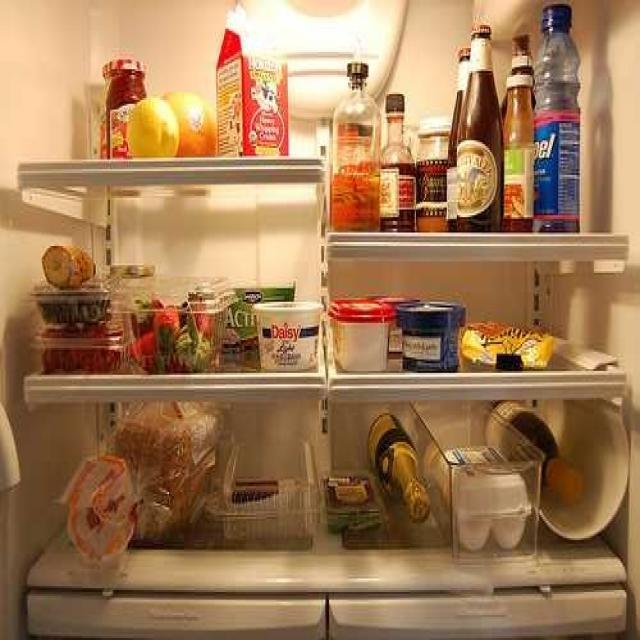refrigerator: (7, 0, 640, 599)
